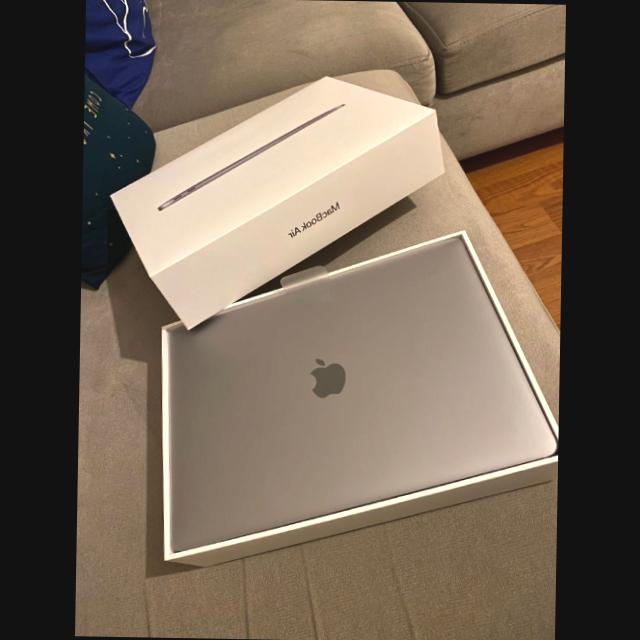laptop: (162, 237, 558, 554)
